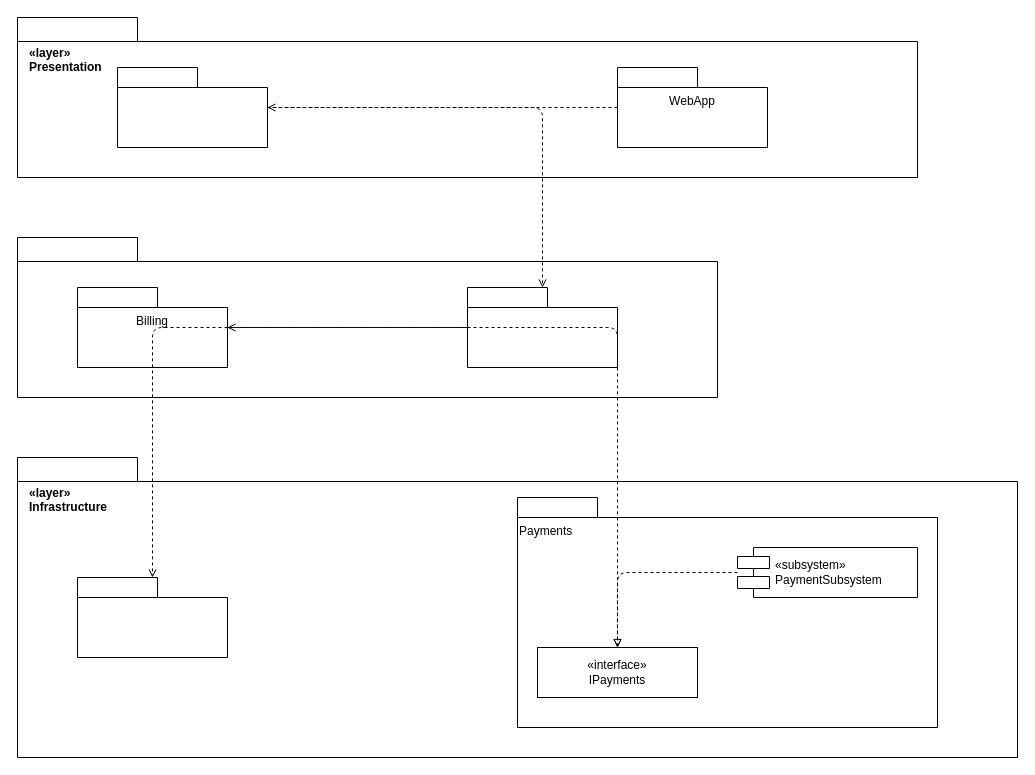
The diagram is 1035 pixels wide and 775 high, and some of its shapes have lost their labels. Here are the shapes that lost their labels. From the top down, the box of each, then its label:
(116, 66, 268, 148): Api
(16, 236, 718, 398): «layer» Application
(466, 286, 618, 368): Orders
(76, 576, 228, 658): Storage
